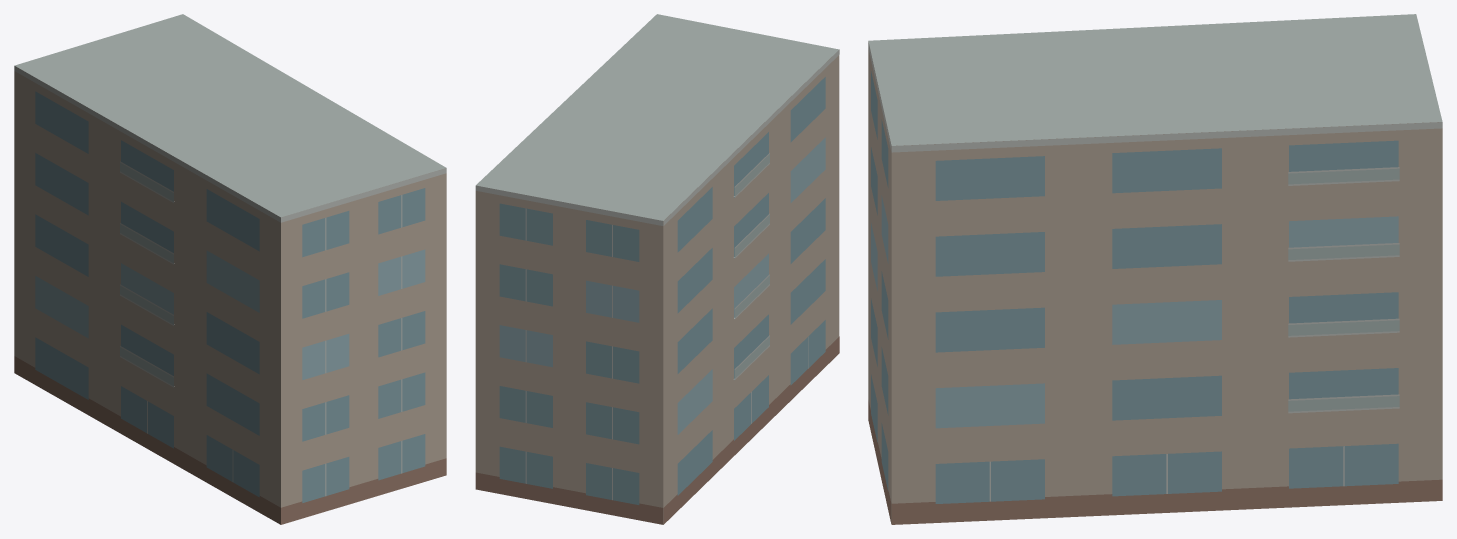
Rendered from survey-upis-32816735.glb.
The picture shows the model from 3 angles, left to right: view 1: azimuth 30°, elevation 25°; view 2: azimuth 150°, elevation 25°; view 3: azimuth 270°, elevation 25°; orthographic projection. The views are drawn at different scales.
Visible parts, largest first — view 1: survey-upis-32816735.tmp; view 2: survey-upis-32816735.tmp; view 3: survey-upis-32816735.tmp.
Boxes of the visible parts, <box> form: survey-upis-32816735.tmp: <box>14,14,446,524</box>; survey-upis-32816735.tmp: <box>475,14,839,524</box>; survey-upis-32816735.tmp: <box>868,14,1442,524</box>.
Size of the model in its own units: 10.54 by 14.1 by 19.38.
